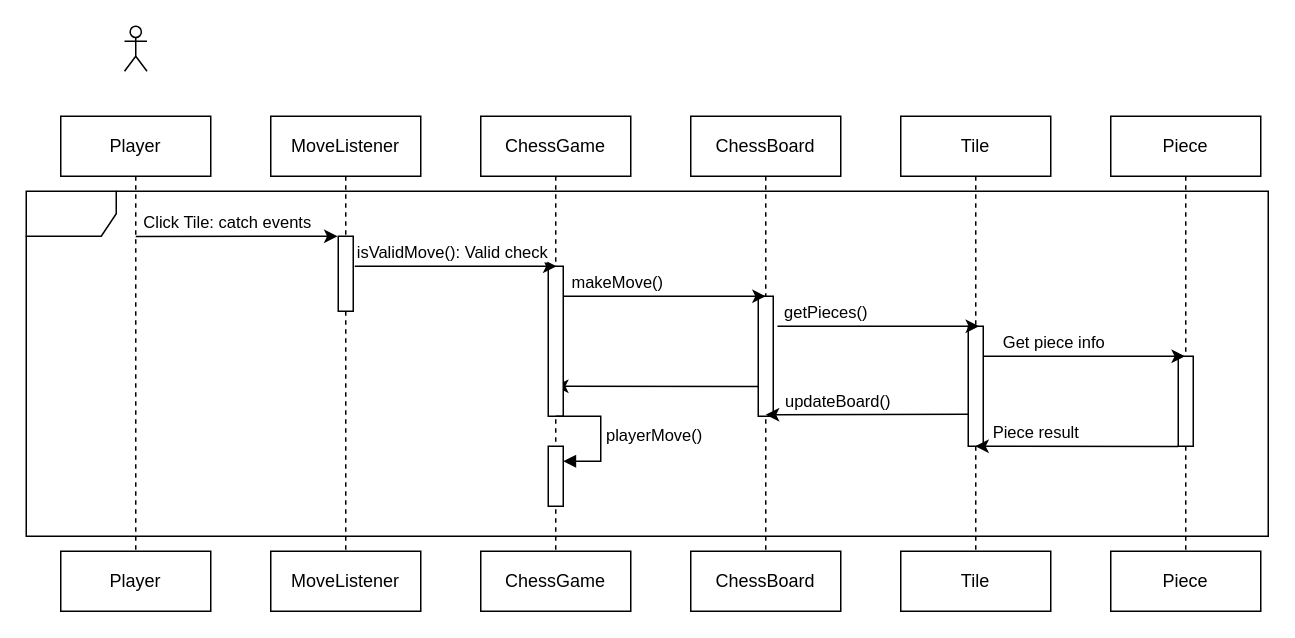
Some shapes in this 1295 by 638 pixel diagram are drawn without their labels. The shapes that lost their labels are listed below. From the top down, each one's centre as x and y in pixels, then its label:
At (135,48): "Actor".
At (646,363): "loop".
